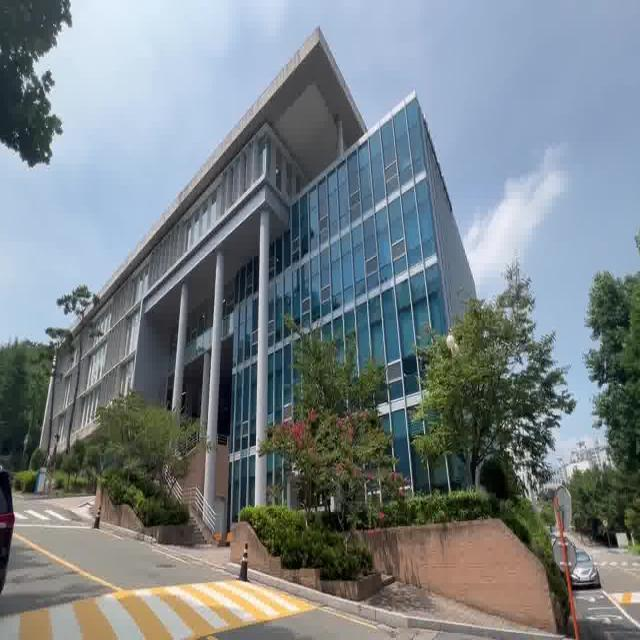building: (59, 46, 450, 377)
